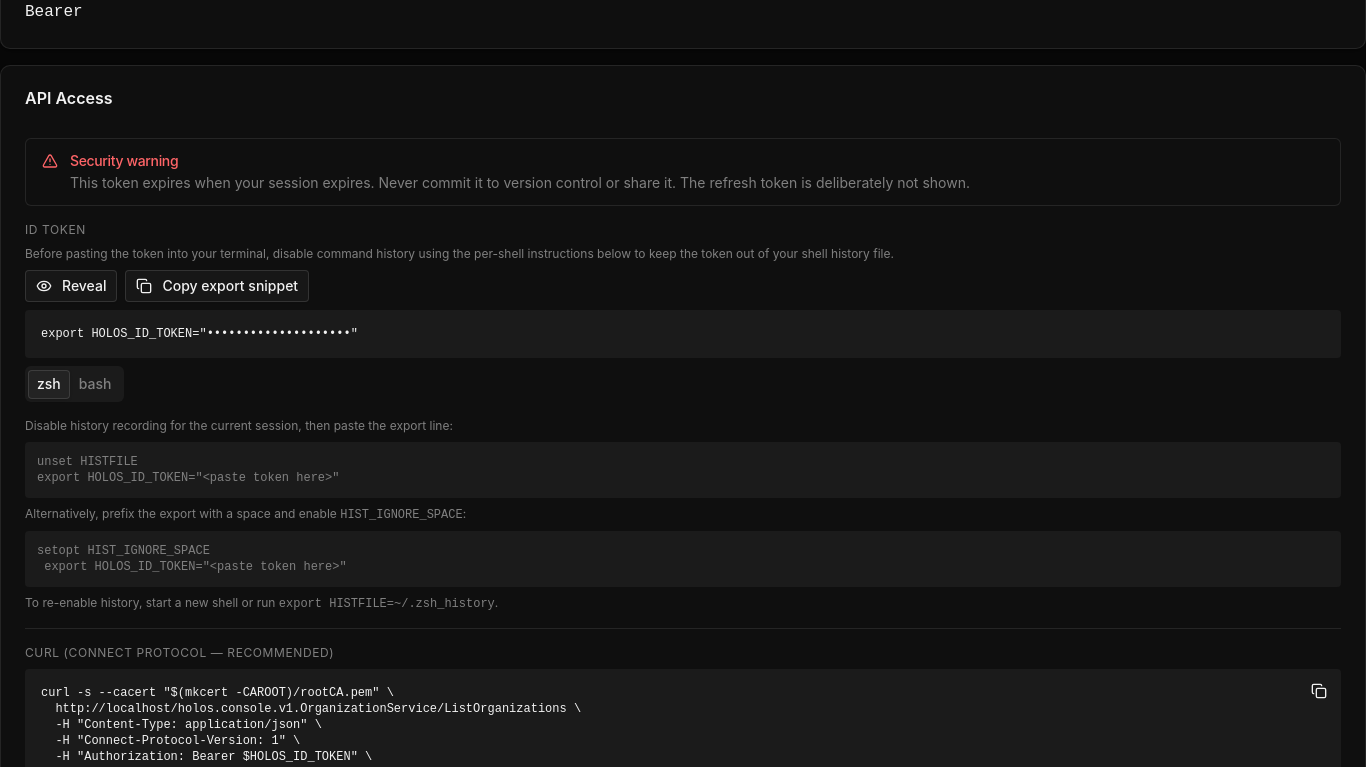
Test case: ProfilePage API Access section › switches to bash tab and shows bash-specific instructions
(page scrolled)
Click the tab "bash" at x=95, y=384, box [70,370,120,398]
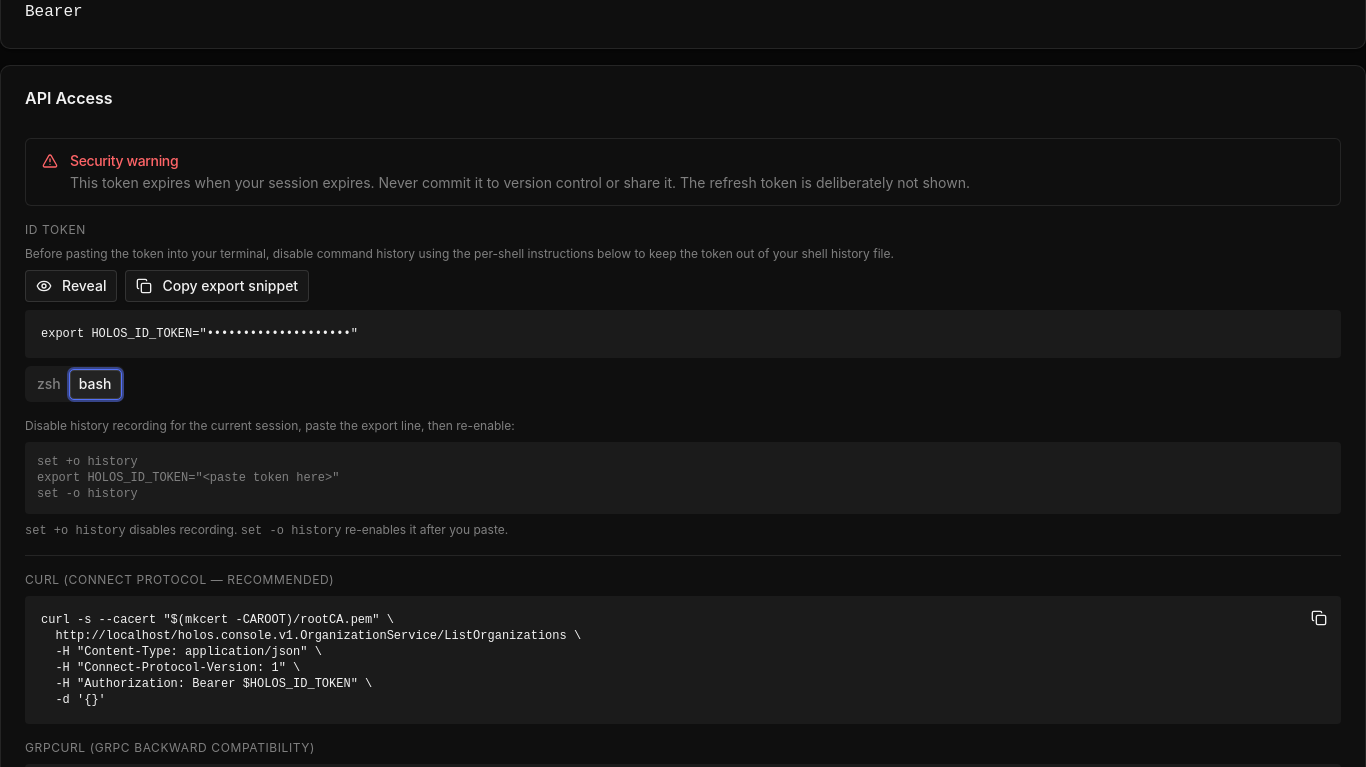
Now the panel shows "set +o history", box [25,524,126,538]
